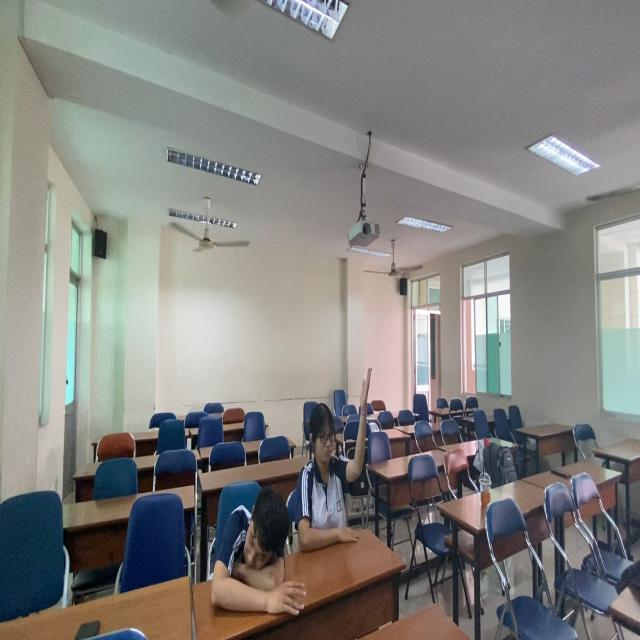raise_hand: (293, 369, 376, 553)
sleep: (202, 486, 316, 628)
